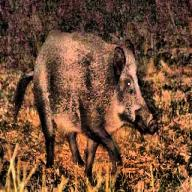boar: (12, 29, 158, 181)
